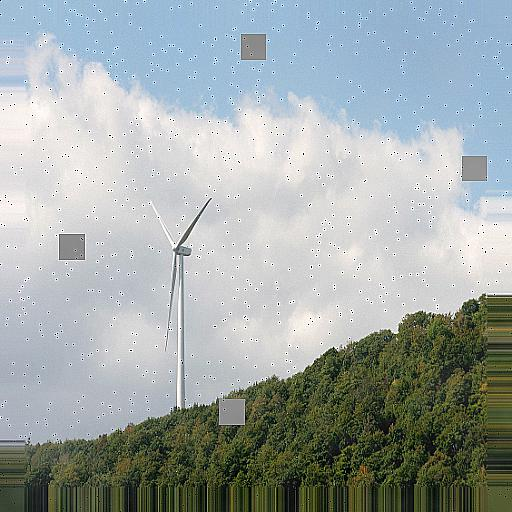wind turbine: (148, 199, 214, 408)
